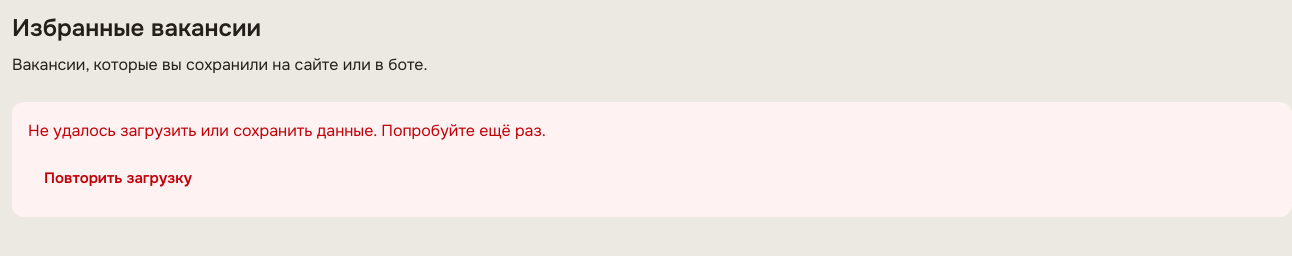
Test: failed favorites loading is an error with retry, not an empty list
Expected: the message shows "Не удалось", [28, 120, 546, 141]
What coordinates should you click on to do the following:
click the button "Повторить загрузку"
I would click on:
 (118, 179)
Its box is [28, 157, 208, 201].
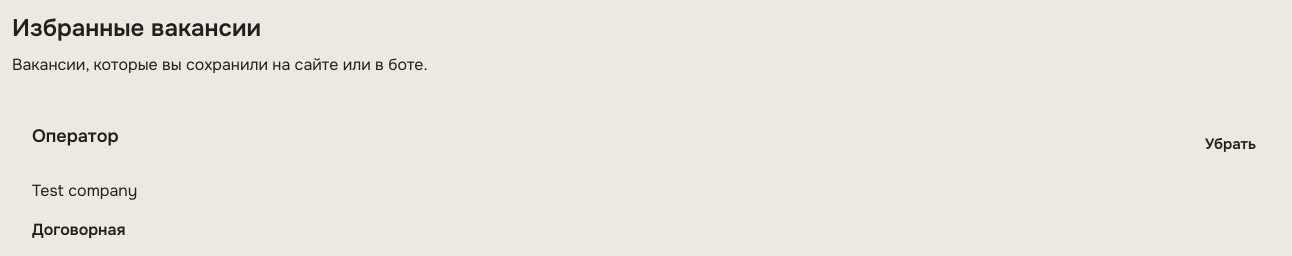
Expected: the link "Оператор" is shown, [32, 125, 118, 147]
